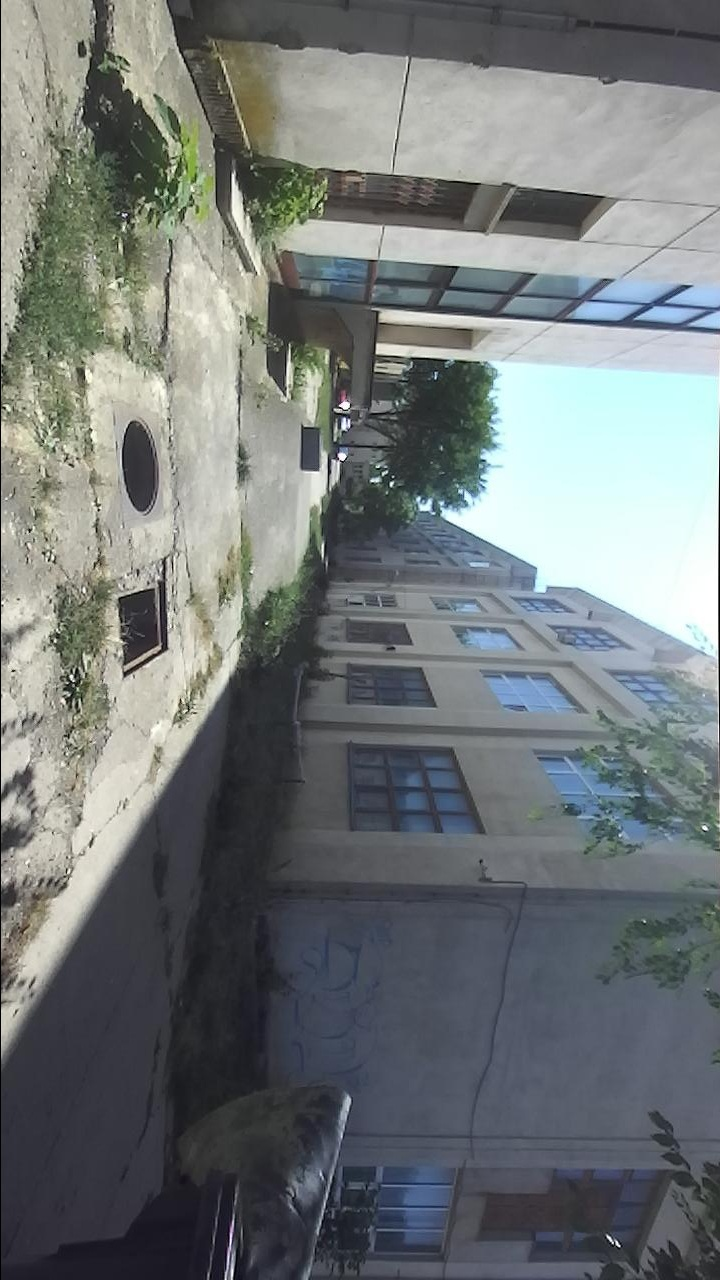drain: (115, 576, 170, 681), (119, 411, 163, 520)
